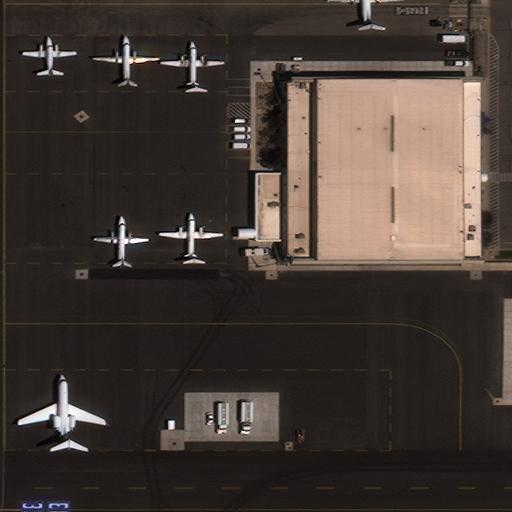Medium Civil Transport: (18, 374, 105, 452), (93, 35, 159, 87), (159, 212, 222, 265), (160, 41, 224, 93), (330, 0, 399, 31)
Small Civil Transport: (94, 215, 148, 267), (22, 36, 76, 77)
